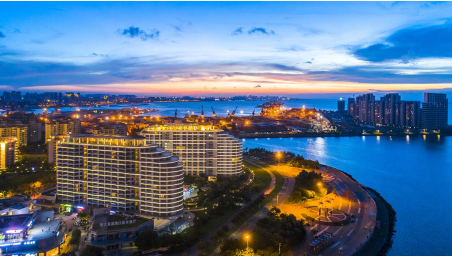sky_cloud: (17, 7, 449, 71)
